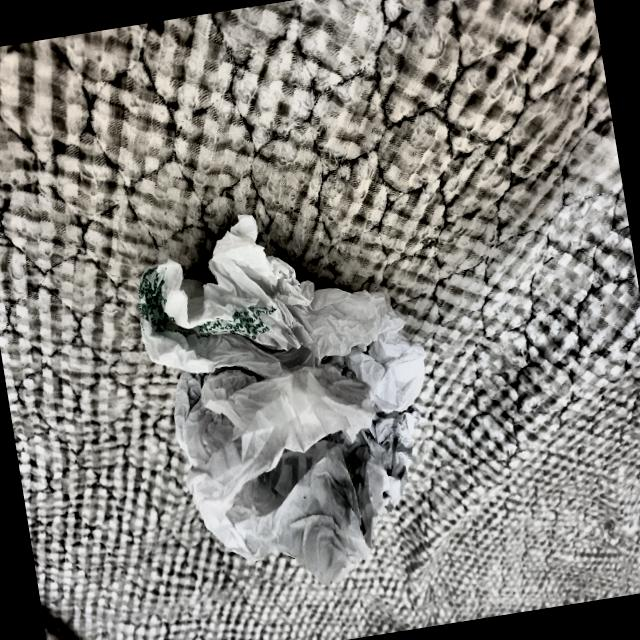plastic bag: (109, 178, 465, 625)
